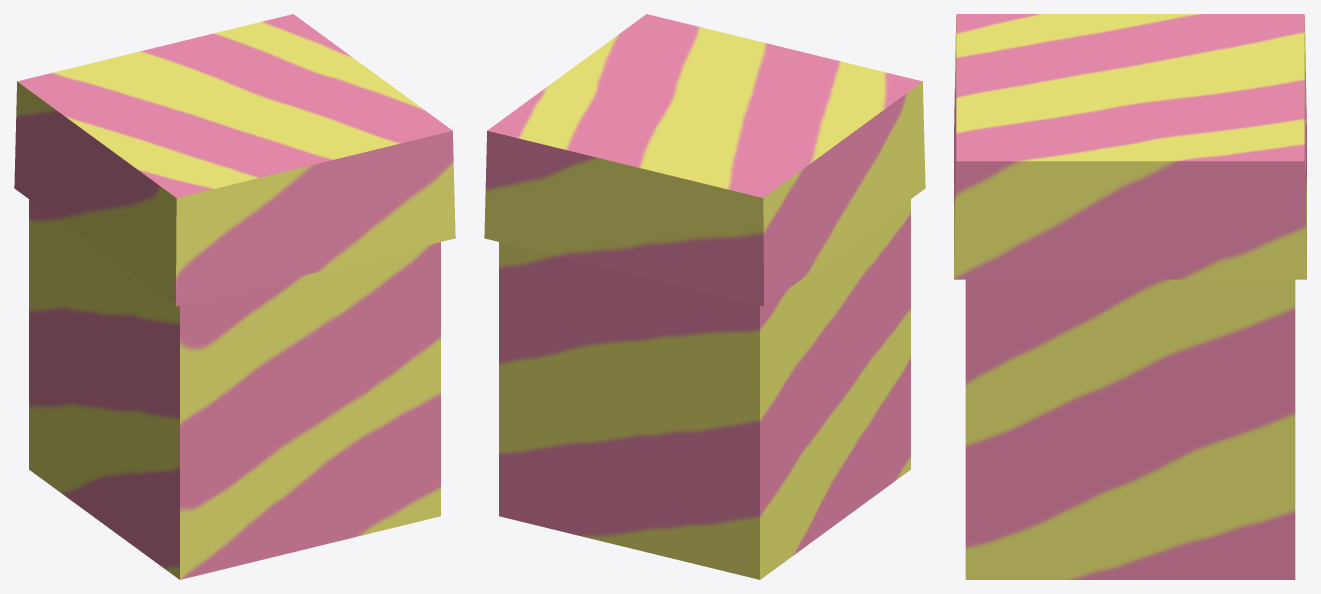
Rendered from GiftBox_4.fbx.
3 renders of one model, left to right at view 1: azimuth 30°, elevation 25°; view 2: azimuth 150°, elevation 25°; view 3: azimuth 270°, elevation 25°, orthographic. The views are drawn at different scales.
Parts seen in each view (by area): view 1: Giftbox four; view 2: Giftbox four; view 3: Giftbox four.
Part boxes in pixels (<box>): Giftbox four: <box>14,14,455,579</box>; Giftbox four: <box>484,14,925,579</box>; Giftbox four: <box>954,14,1306,579</box>.
Bounding box in the file's own units: 163 × 215 × 163.
